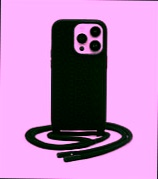iphone: (52, 20, 108, 130)
